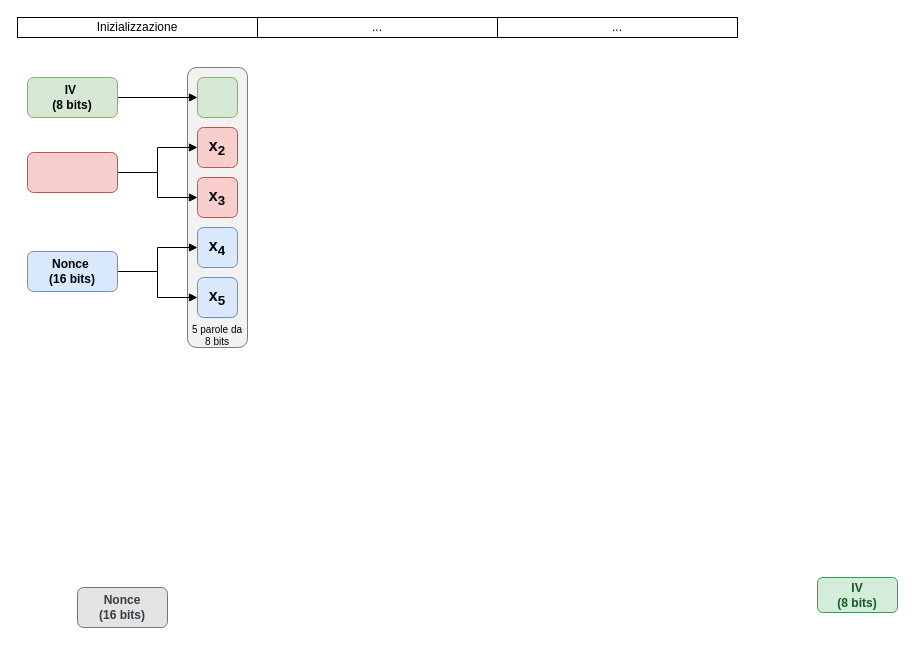
This 915x645 diagram has some shape labels left out. The centre of each missing label's shape, as x and y in pixels:
"Key (16 bits)" goes at point (72, 172).
"x 1" goes at point (217, 97).
